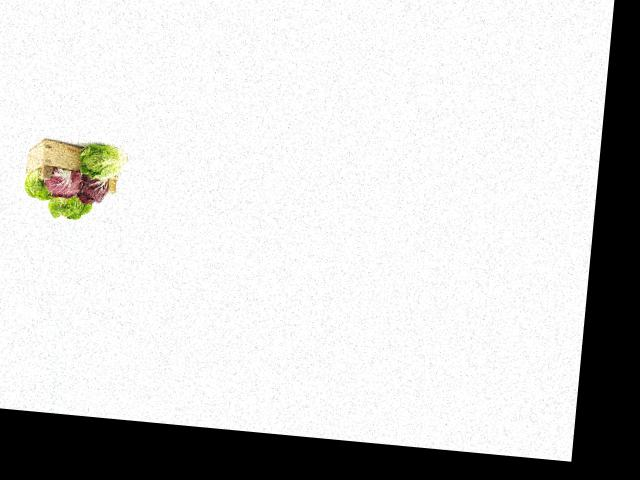lettuce: (47, 187, 93, 221)
